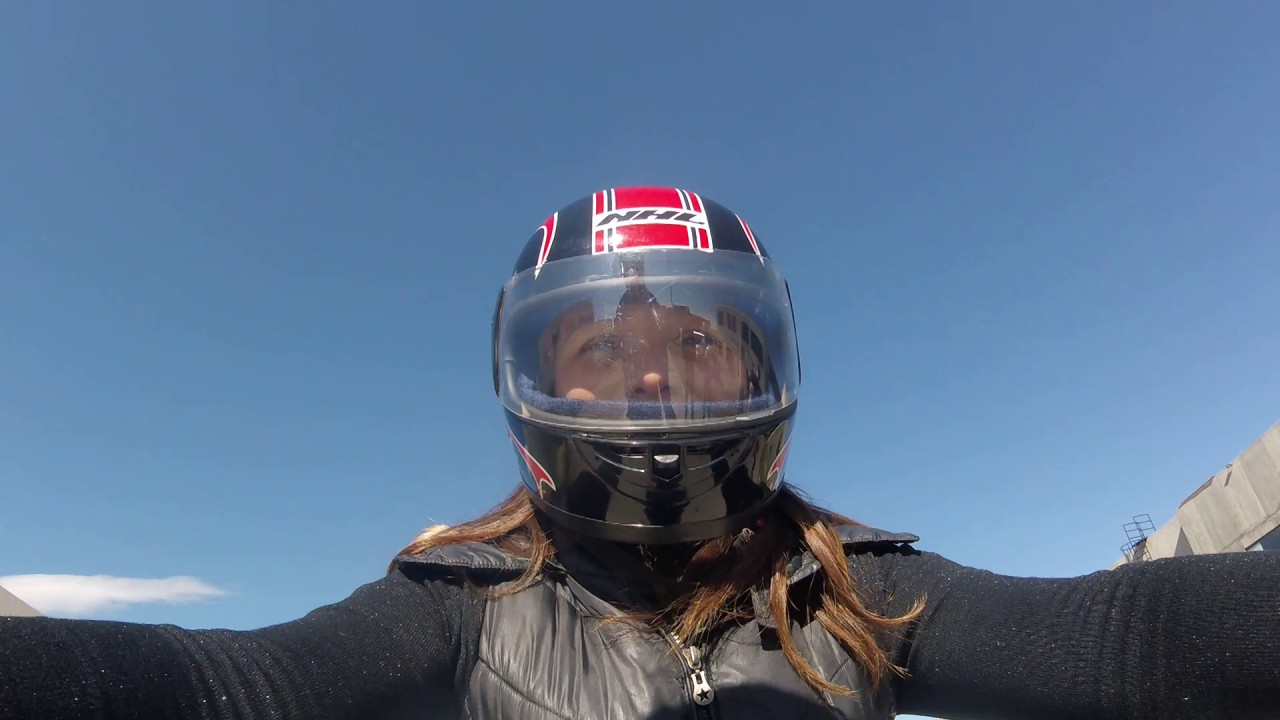With Helmet: (474, 170, 814, 542)
